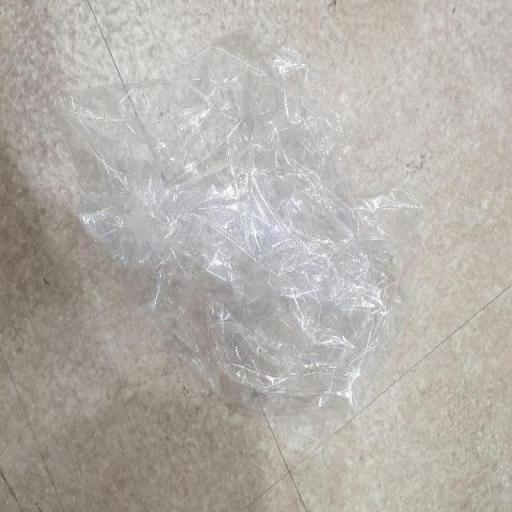plastic-bag: (52, 30, 428, 423)
